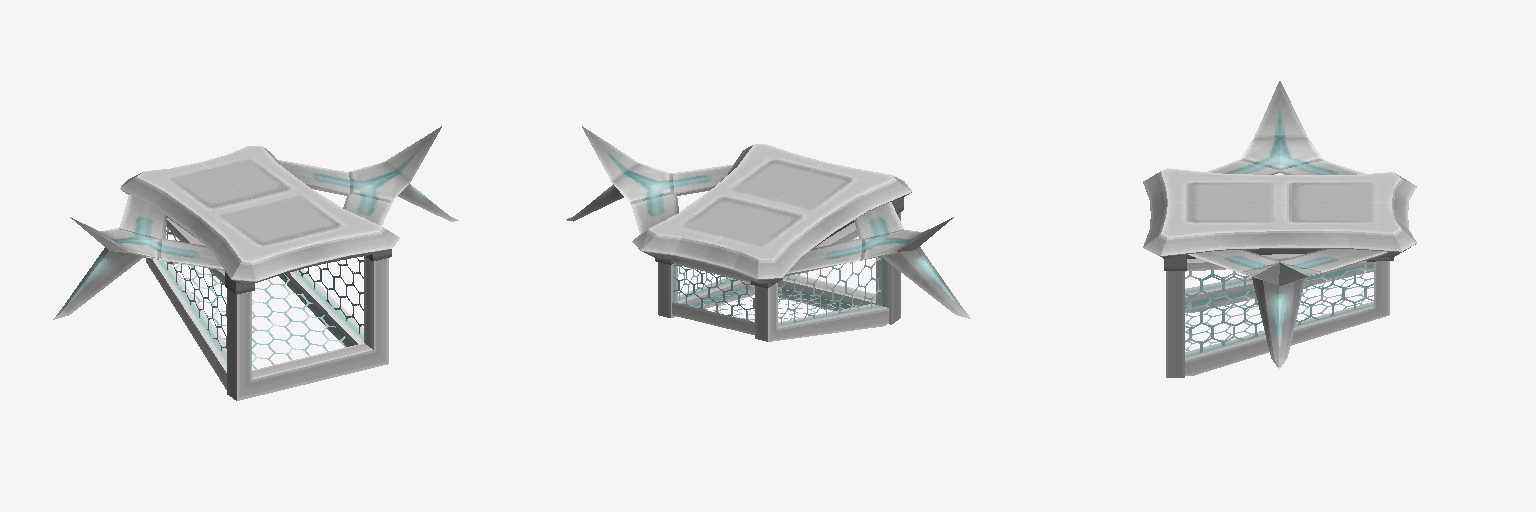
The picture shows the model from 3 angles: view 1: azimuth 30°, elevation 25°; view 2: azimuth 150°, elevation 25°; view 3: azimuth 270°, elevation 25°; orthographic projection.
Visible parts, largest first — view 1: _meshIndex0, _meshIndex2, _meshIndex3, _meshIndex1; view 2: _meshIndex0, _meshIndex2, _meshIndex3, _meshIndex1; view 3: _meshIndex0, _meshIndex2, _meshIndex3, _meshIndex1.
Boxes of the visible parts, x1,y1,x2,y2 form: _meshIndex0: [119, 146, 399, 400]; _meshIndex2: [70, 126, 441, 258]; _meshIndex3: [53, 183, 458, 319]; _meshIndex1: [166, 228, 363, 368]; _meshIndex0: [631, 143, 911, 341]; _meshIndex2: [582, 126, 953, 260]; _meshIndex3: [566, 184, 970, 318]; _meshIndex1: [674, 258, 880, 324]; _meshIndex0: [1143, 160, 1416, 377]; _meshIndex2: [1239, 81, 1324, 285]; _meshIndex3: [1252, 277, 1305, 368]; _meshIndex1: [1185, 262, 1373, 352].
Bounding box in the file's own units: 1.79 × 0.7154 × 1.05.
2 materials, 2 textured.